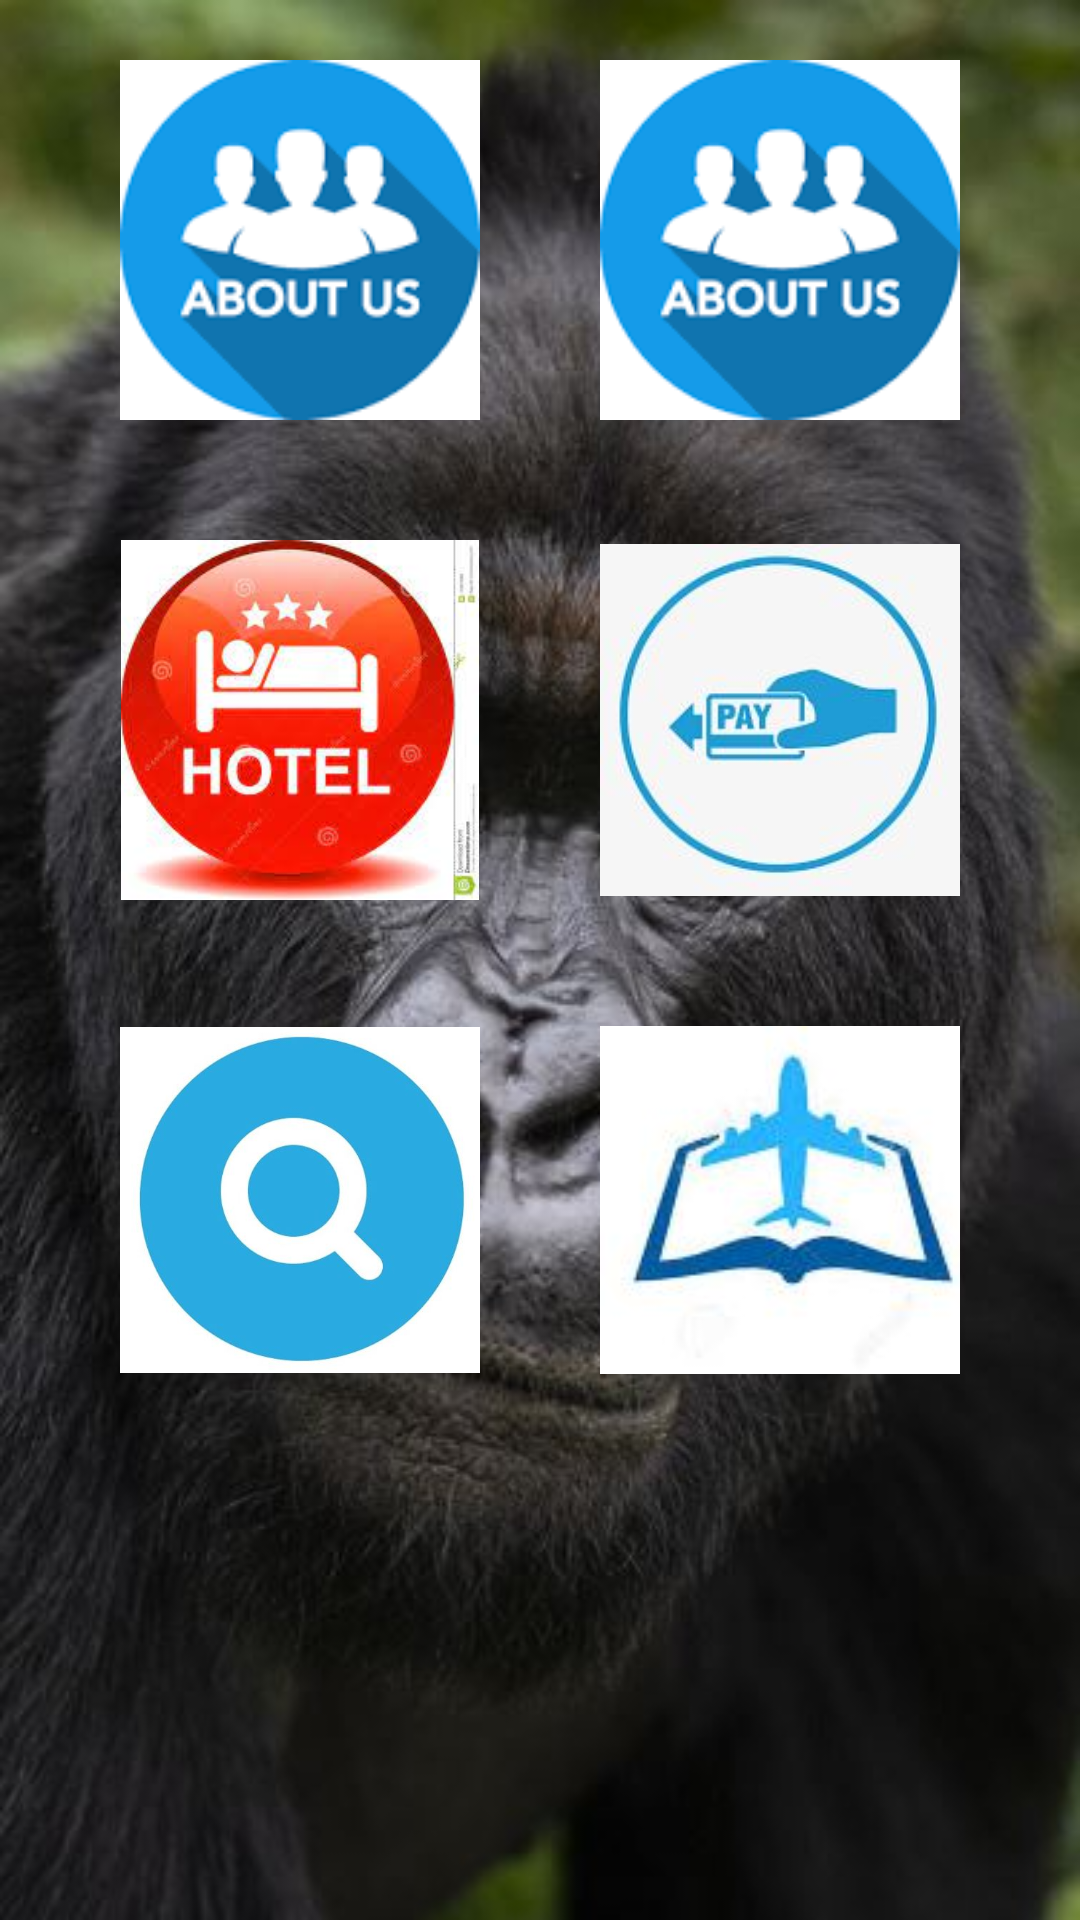

Named icons in this screenshot (1080*1920) and their centers, (x,y):
book: (780,1200)
book hotel: (300,720)
search: (300,1200)
